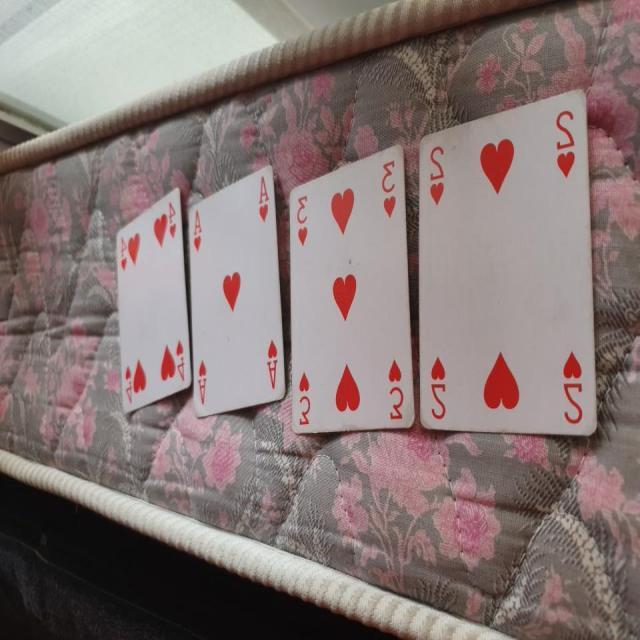2 of hearts: (408, 79, 612, 440)
3 of hearts: (286, 130, 416, 443)
4 of hearts: (113, 186, 192, 422)
ace of hearts: (181, 162, 286, 422)
